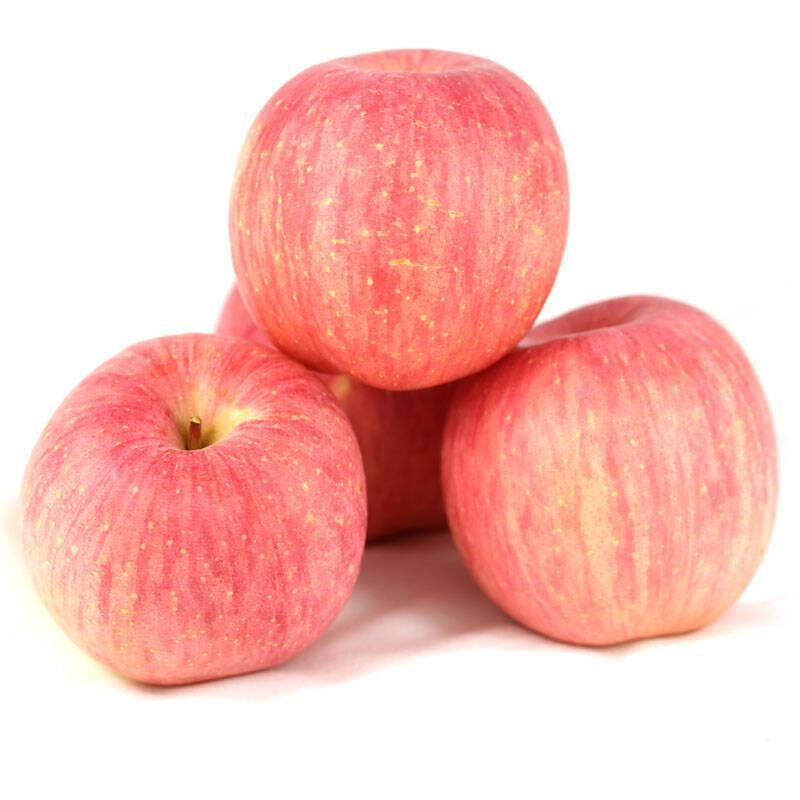apple: (13, 339, 372, 697), (433, 291, 779, 655), (227, 50, 572, 392), (213, 278, 457, 538)
